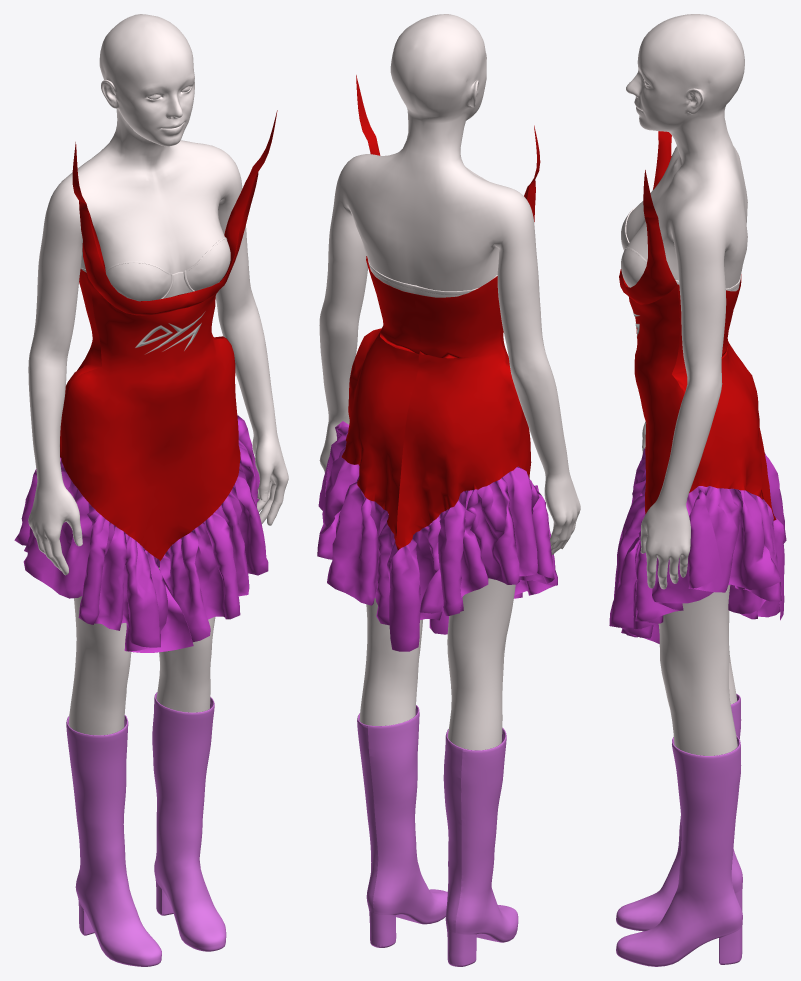
Rendered from Inferno_dress.glb.
The picture shows the model from 3 angles, left to right: view 1: azimuth 30°, elevation 25°; view 2: azimuth 150°, elevation 25°; view 3: azimuth 270°, elevation 25°; orthographic projection.
Parts seen in each view (by area): view 1: mannequin0, cloth4_side0, zeta_accessory2, cloth5_side0, cloth6_side0, zeta_accessory1, cloth2_side0, cloth3_side1, cloth0_side0, cloth8_side0, logo0; view 2: mannequin0, zeta_accessory2, cloth0_side0, cloth8_side0, cloth1_side0, cloth7_side0, cloth5_side0, zeta_accessory1, cloth4_side0, cloth3_side1, cloth5_side1; view 3: mannequin0, zeta_accessory2, cloth1_side0, cloth4_side0, cloth7_side0, cloth6_side0, cloth7_side1, cloth2_side0, cloth5_side0, cloth8_side0, zeta_accessory1, cloth3_side1 (+2 smaller).
Boxes of the visible parts, <box> form: mannequin0: <box>28,14,288,735</box>; cloth4_side0: <box>61,274,240,560</box>; zeta_accessory2: <box>66,692,226,966</box>; cloth5_side0: <box>23,459,193,652</box>; cloth6_side0: <box>160,439,268,641</box>; zeta_accessory1: <box>80,237,230,301</box>; cloth2_side0: <box>72,142,258,315</box>; cloth3_side1: <box>87,113,276,296</box>; cloth0_side0: <box>60,269,101,457</box>; cloth8_side0: <box>14,457,60,552</box>; logo0: <box>135,311,205,354</box>; mannequin0: <box>319,14,580,750</box>; zeta_accessory2: <box>357,705,518,966</box>; cloth0_side0: <box>395,276,522,550</box>; cloth8_side0: <box>389,467,538,651</box>; cloth1_side0: <box>341,262,420,541</box>; cloth7_side0: <box>317,421,397,625</box>; cloth5_side0: <box>514,474,557,598</box>; zeta_accessory1: <box>368,260,497,297</box>; cloth4_side0: <box>500,322,531,477</box>; cloth3_side1: <box>356,76,529,199</box>; cloth5_side1: <box>514,487,554,595</box>; mannequin0: <box>626,14,747,755</box>; zeta_accessory2: <box>616,694,742,966</box>; cloth1_side0: <box>672,284,773,515</box>; cloth4_side0: <box>629,285,698,514</box>; cloth7_side0: <box>691,486,781,619</box>; cloth6_side0: <box>609,487,713,634</box>; cloth7_side1: <box>688,489,765,613</box>; cloth2_side0: <box>619,170,677,304</box>; cloth5_side0: <box>614,448,645,598</box>; cloth8_side0: <box>764,453,786,619</box>; zeta_accessory1: <box>621,207,740,291</box>; cloth3_side1: <box>623,131,671,287</box>.
Size of the model in its own units: 0.5199 by 1.84 by 0.32.
Materials: 5 (3 with a texture image).
